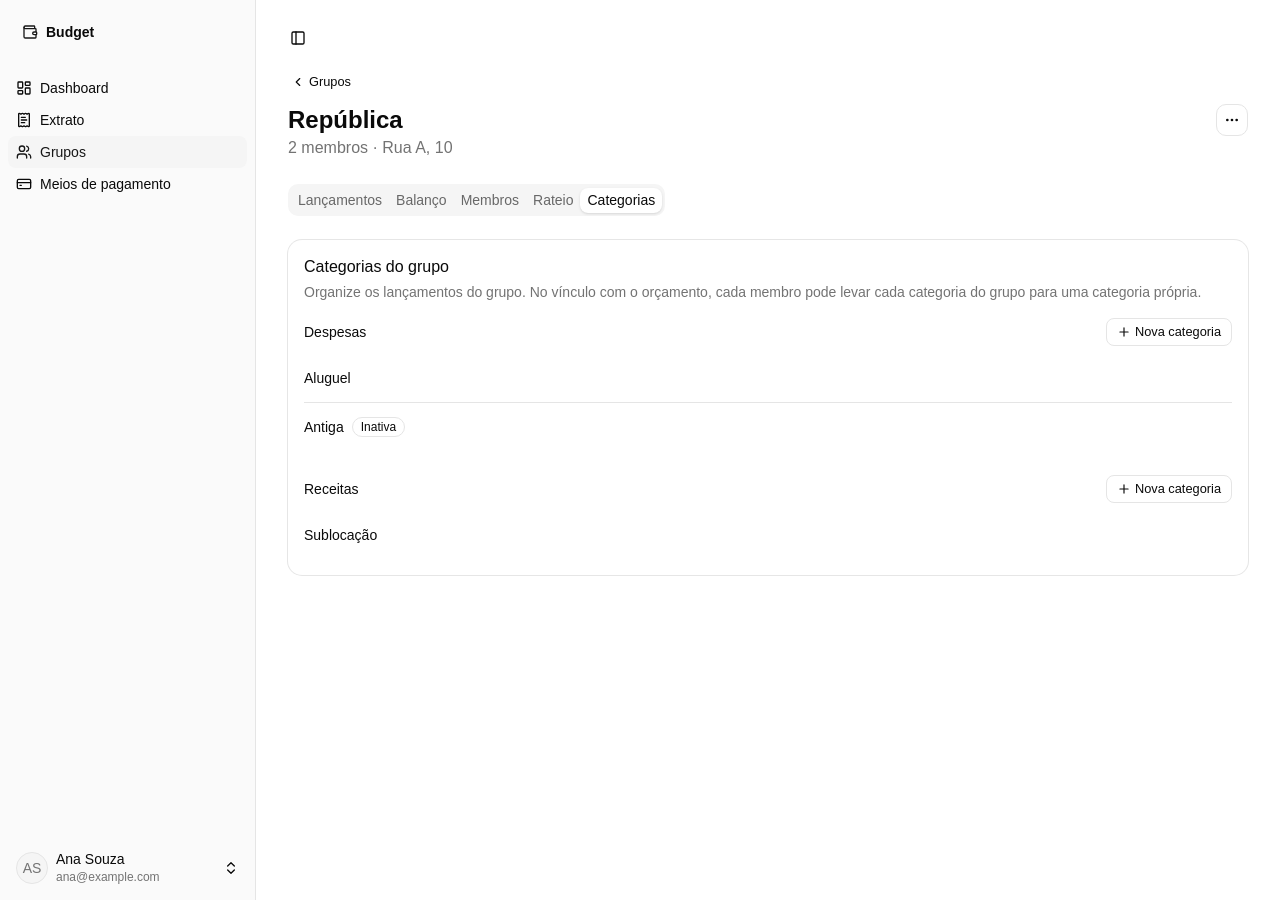
Group categories (/grupos/$groupId?tab=categorias) › keeps the dialog open on a repeated name
Expected: the heading "República" is shown, top-left (288, 106), bottom-right (403, 133)
Click the button with aria-label "Nova categoria de despesa" at (1169, 332), box top-left (1106, 318), bottom-right (1232, 346)
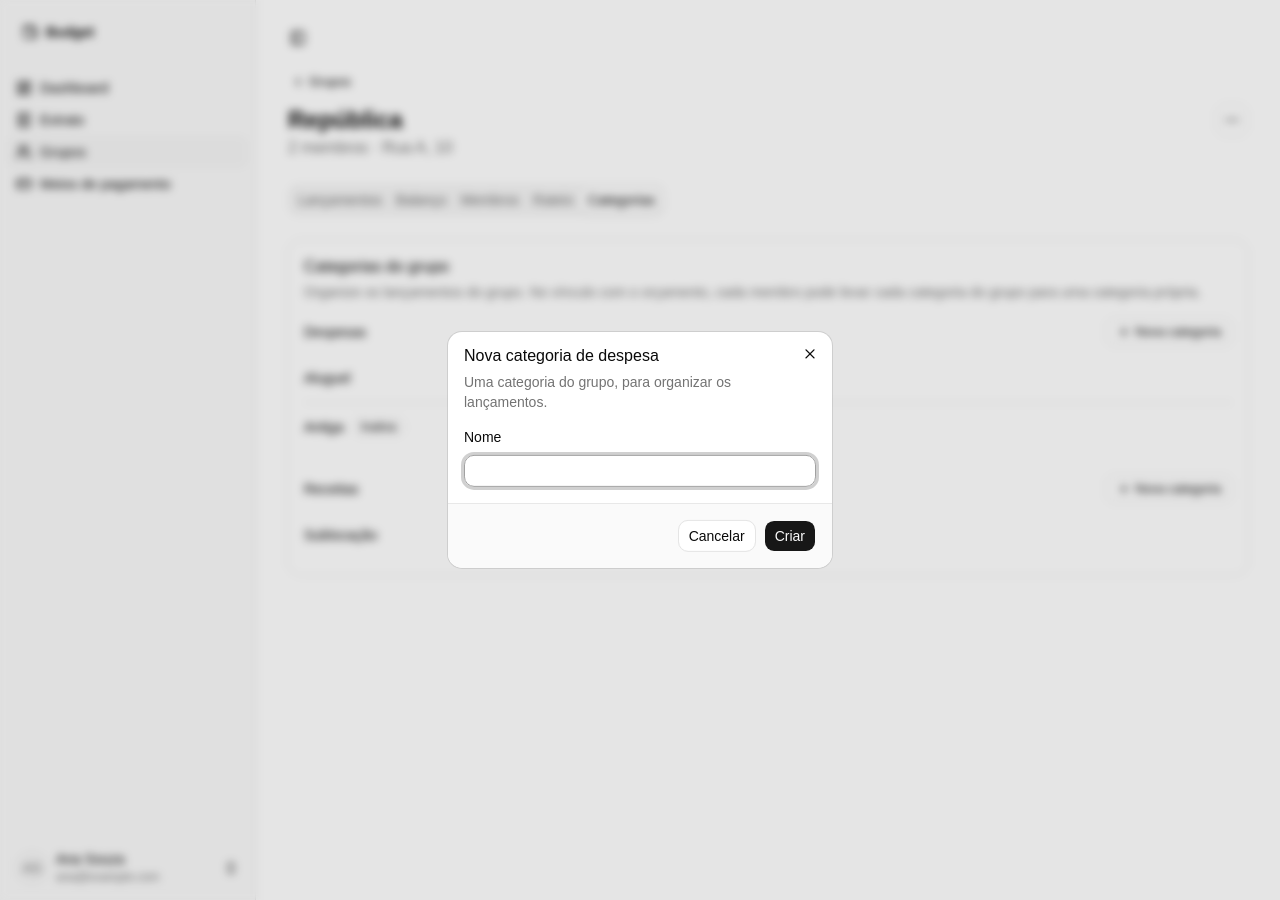
Type "Aluguel" into the field labelled "Nome" at (640, 471), box top-left (464, 455), bottom-right (816, 487)
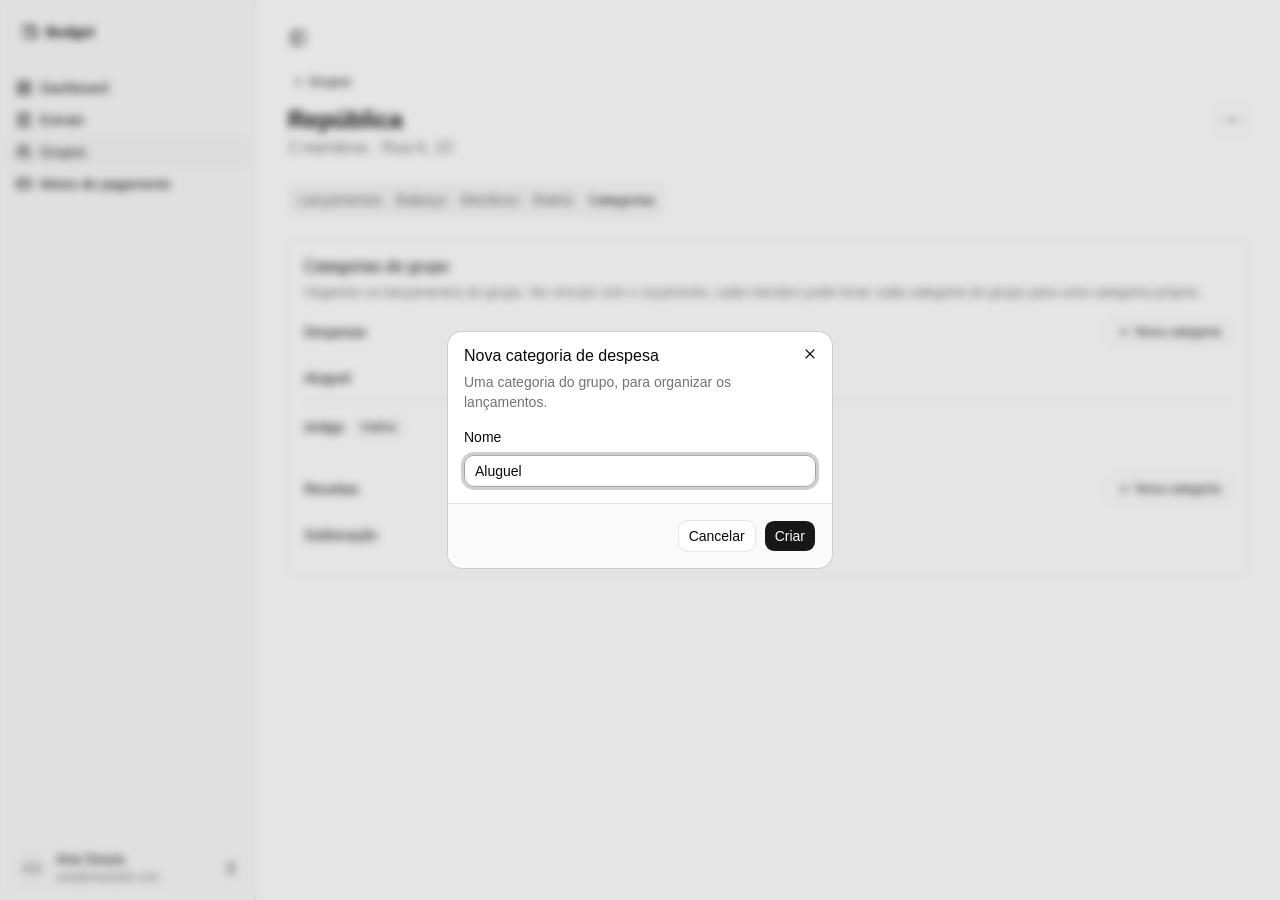
Click the button "Criar" at (790, 536), box top-left (764, 520), bottom-right (816, 552)
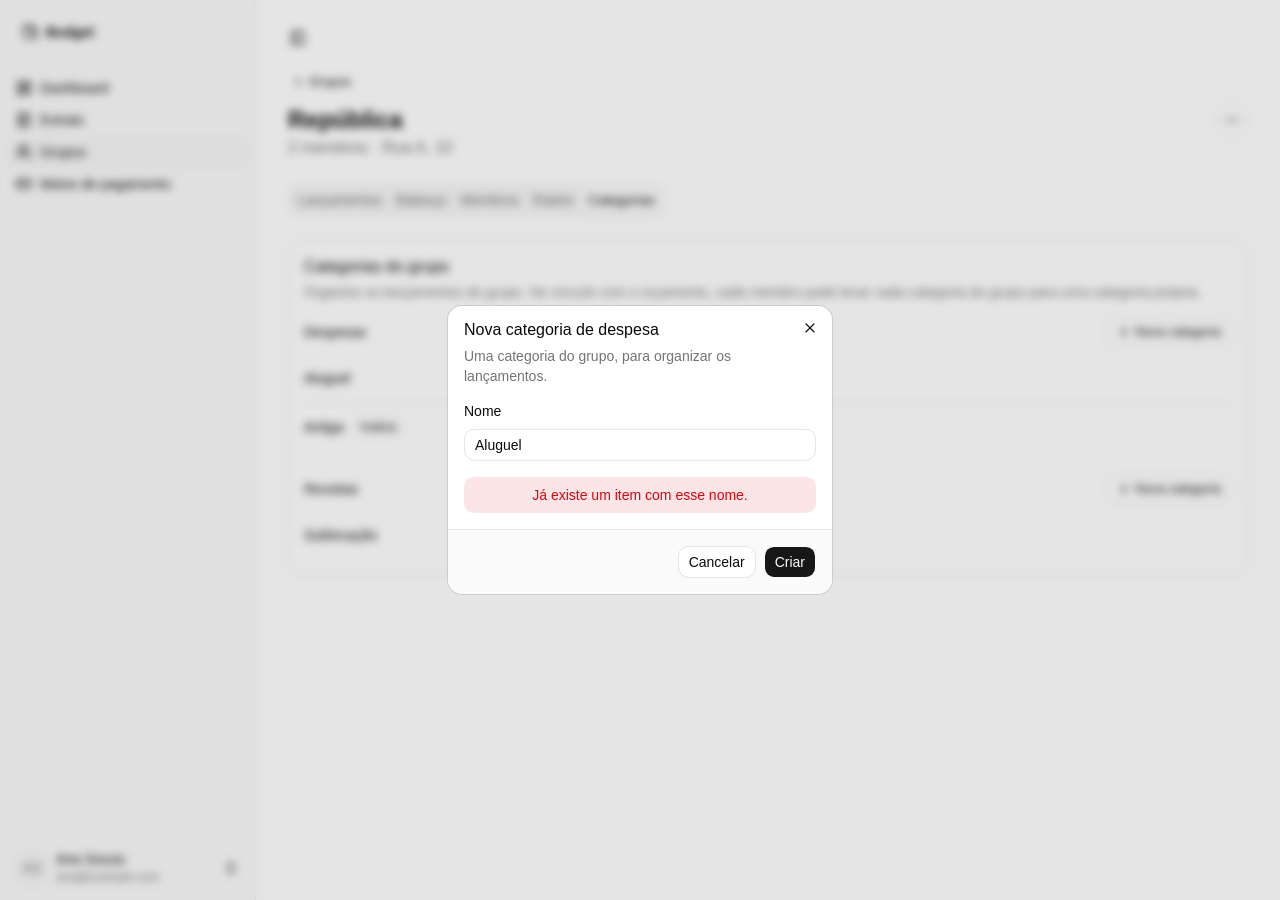
Expected: the message reads "Já existe um item com esse nome.", top-left (532, 487), bottom-right (748, 503)
